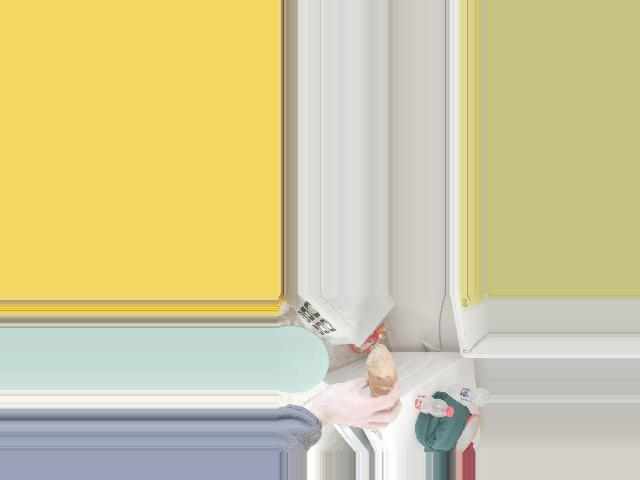sweet_potato: (360, 360, 395, 407)
